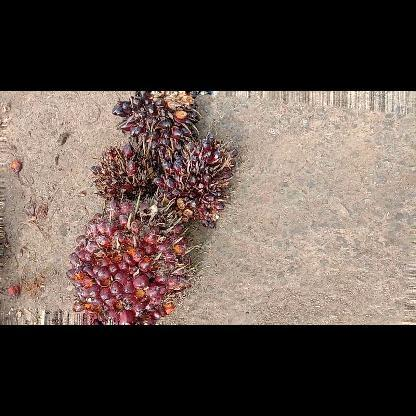TBS abnormal: (158, 136, 238, 226), (92, 145, 156, 202)
TBS masak: (66, 196, 194, 324), (110, 91, 196, 155)
